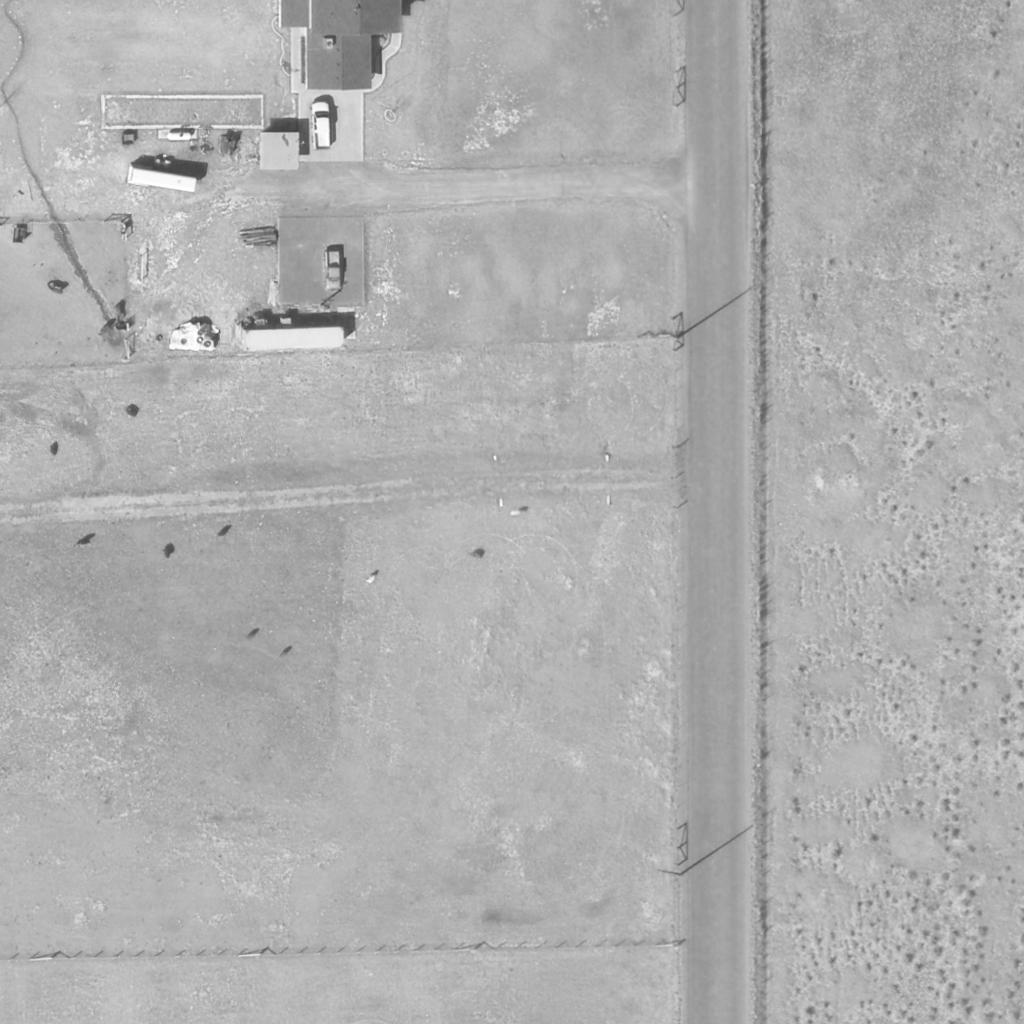vehicle: (120, 163, 198, 197), (311, 98, 333, 152), (322, 249, 346, 291)
